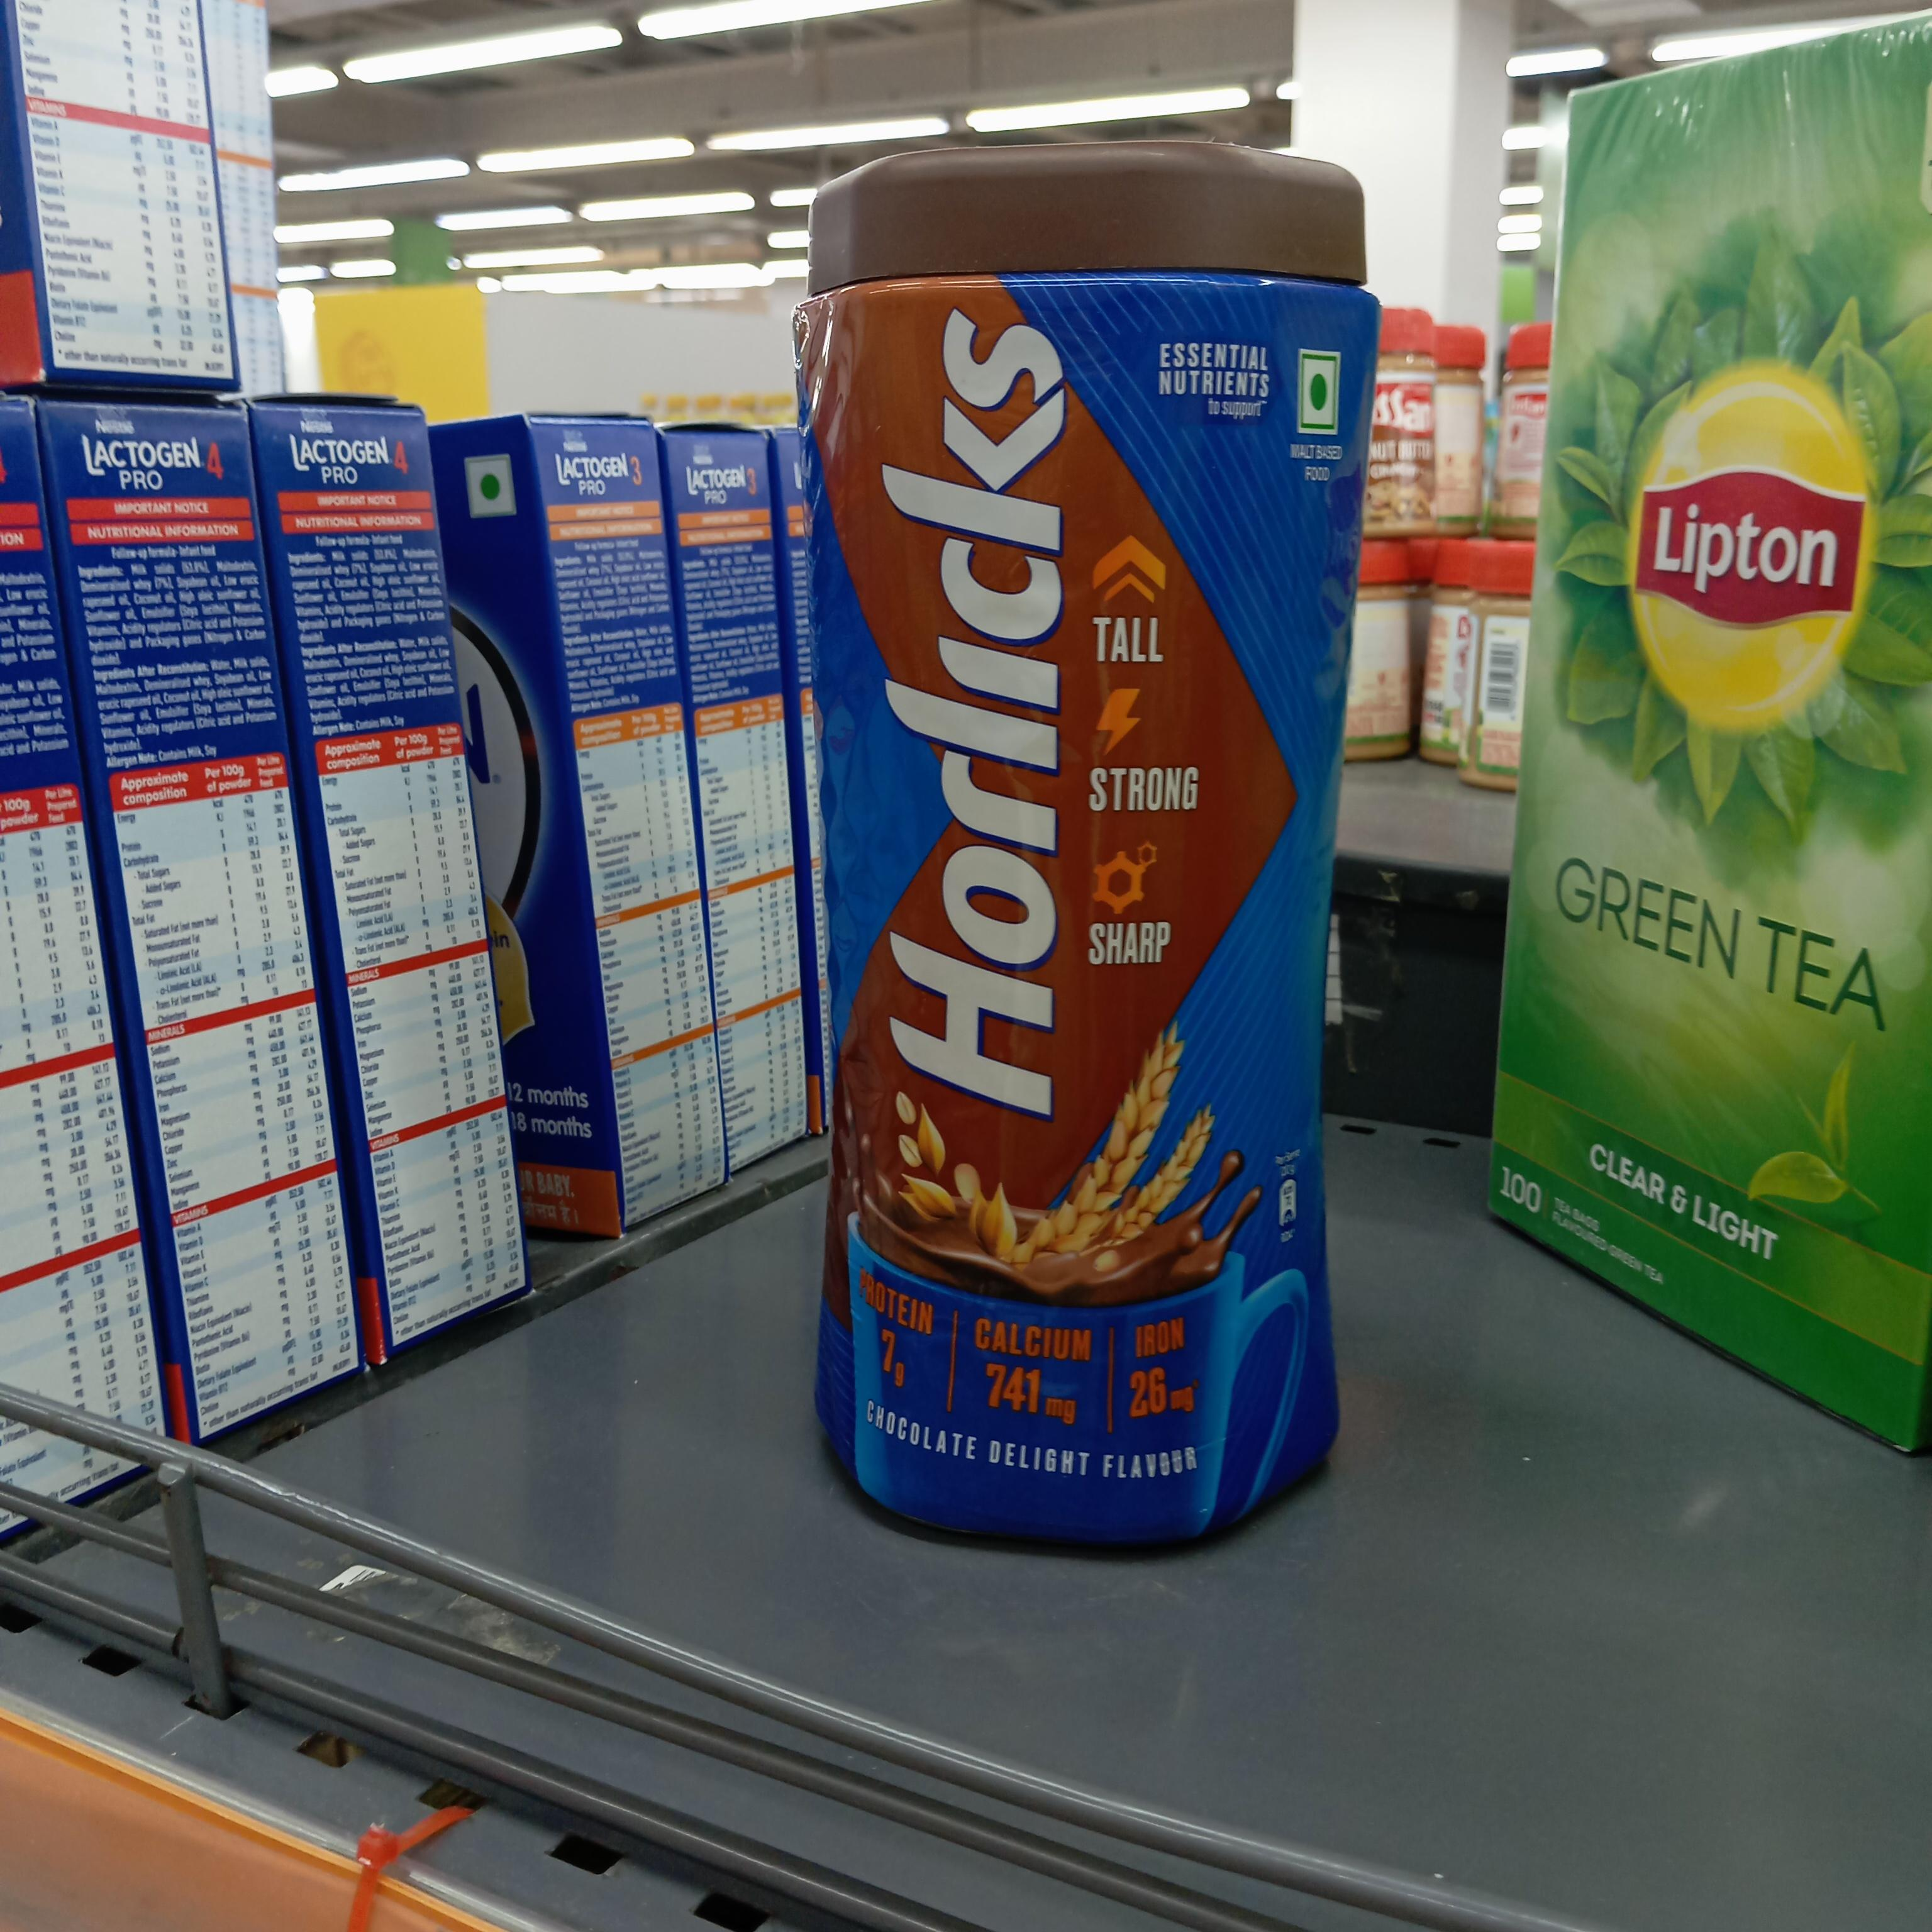HORLICK_CHOCOLATE_1_KG_JAR: (778, 138, 1387, 1546)
